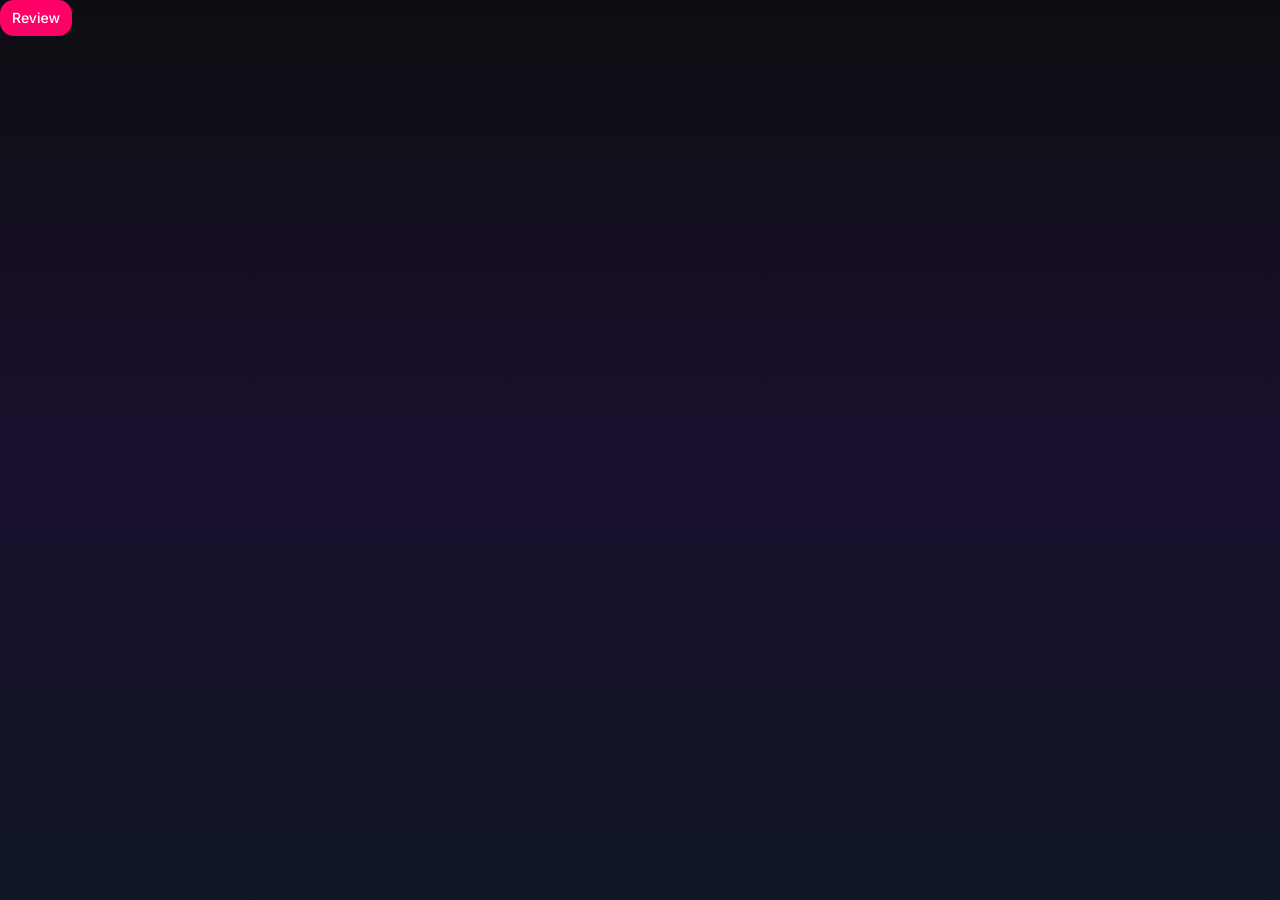
change request review dialog › requires a reason to reject
Later steps or results of the test are not shown.
Step 1. Click the button "Review" → (36,18), box [0, 0, 72, 36]
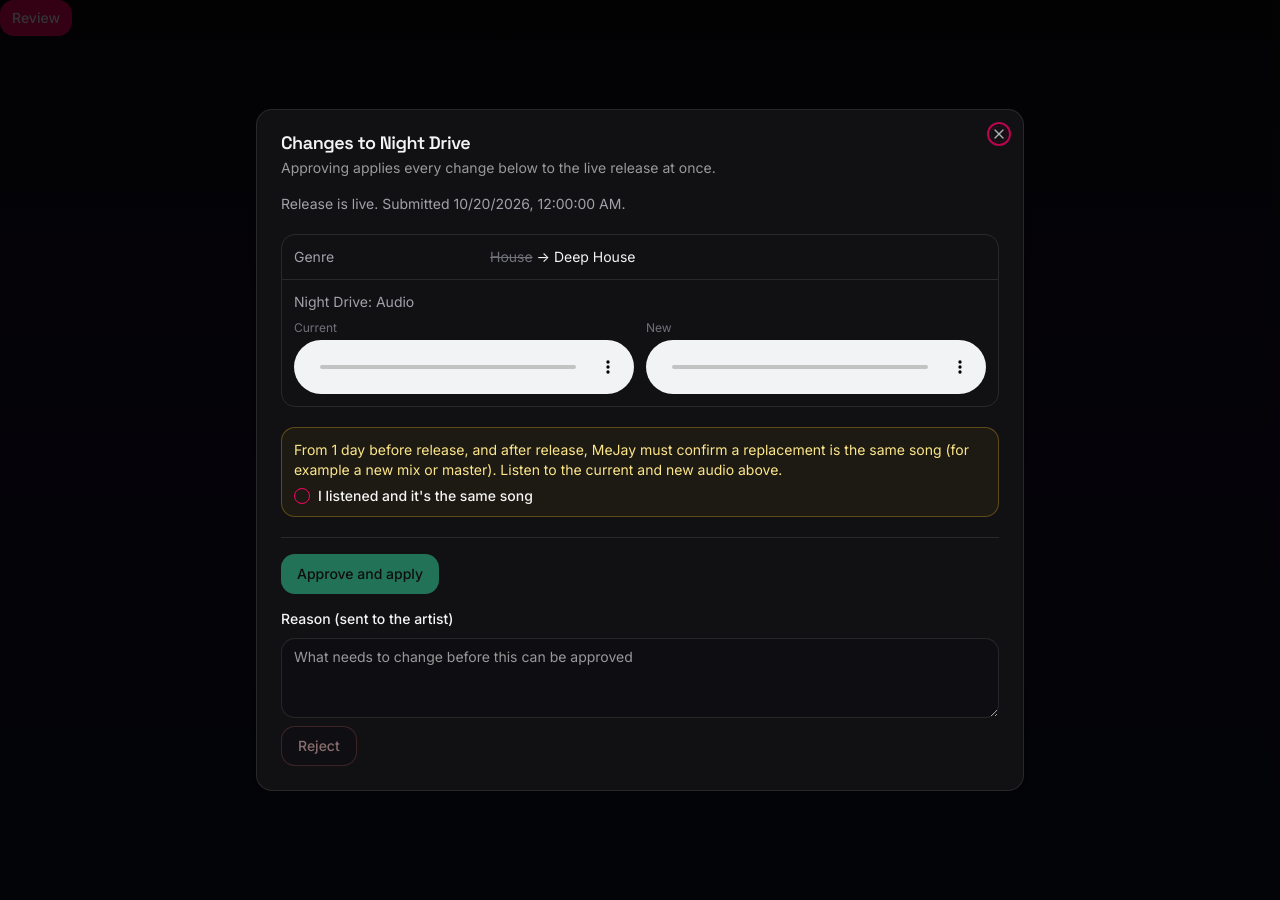
Now the text "Deep House" is shown, box [554, 248, 636, 265]
Now the button "Reject" is disabled, box [281, 726, 357, 766]
